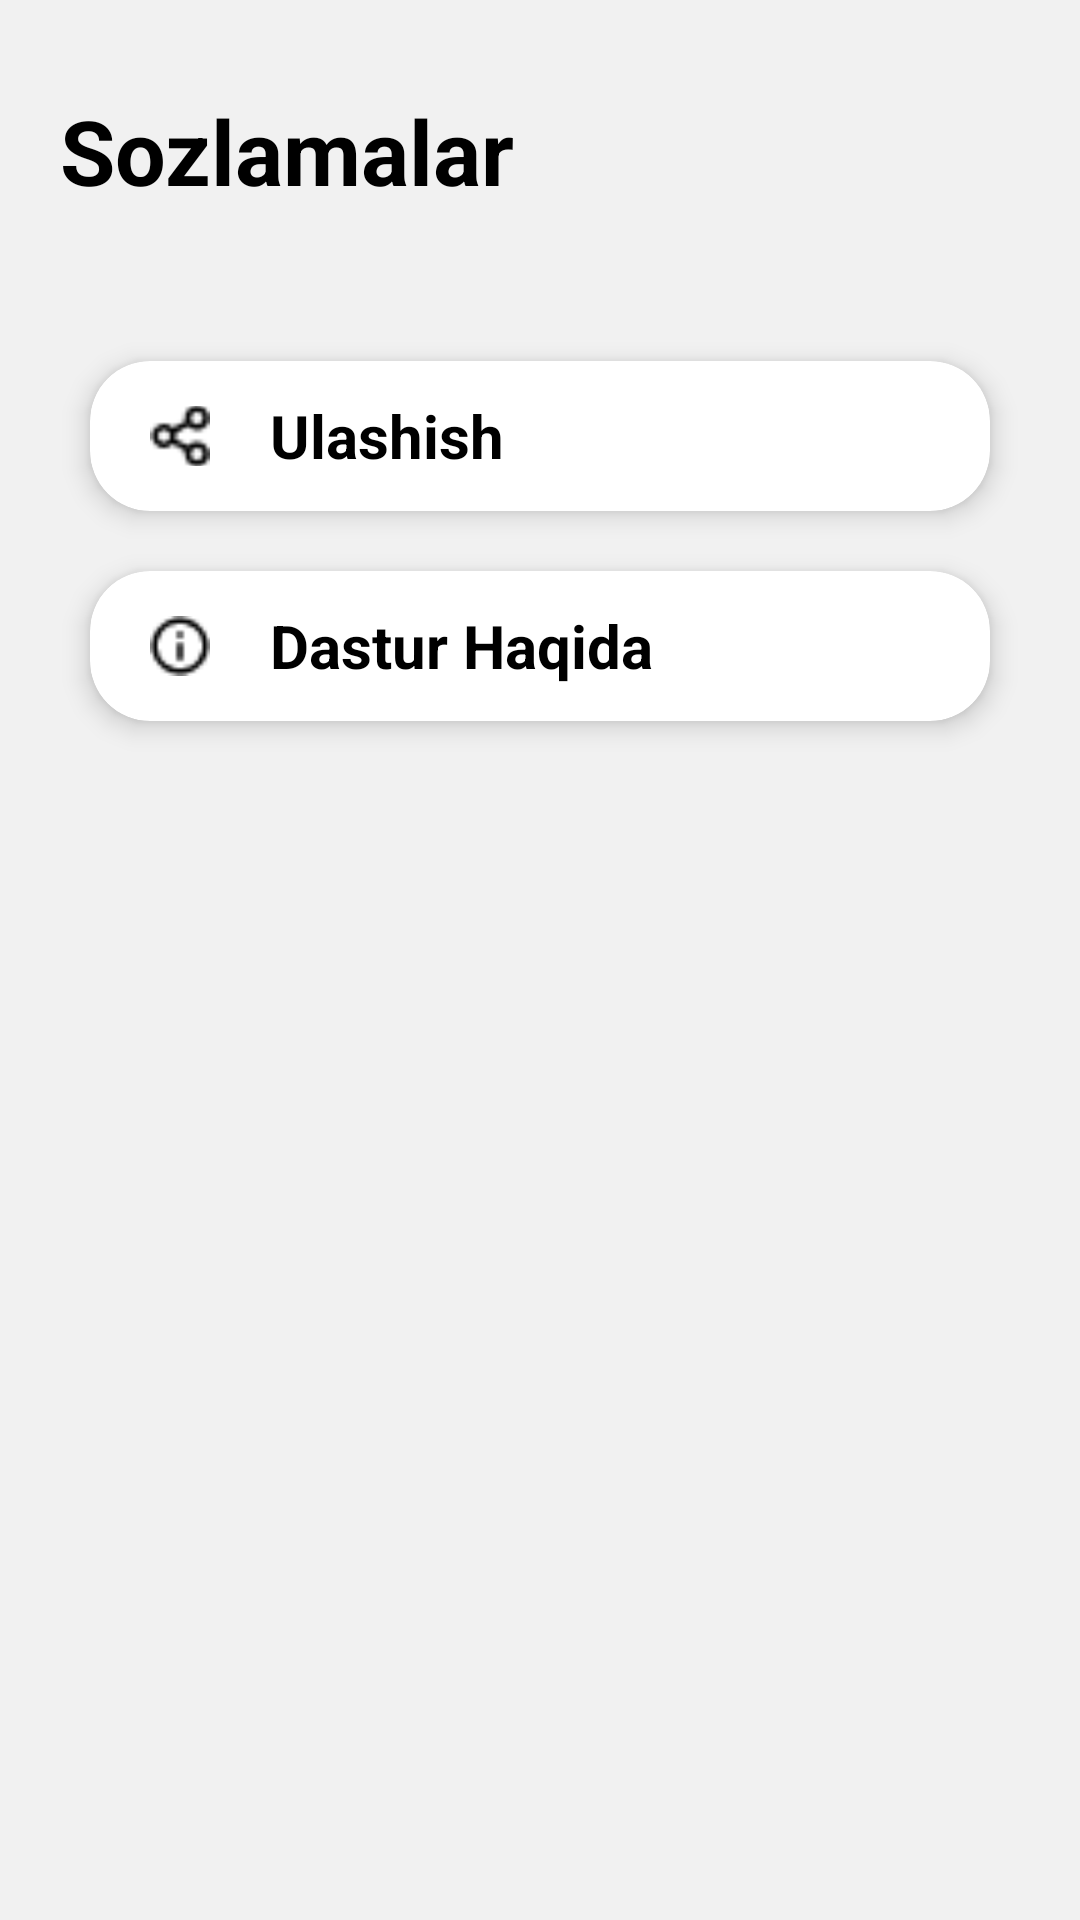

Named icons in this screenshot (1080px×1920px) and their centers, (x,y):
info: (180,646)
share: (180,436)
